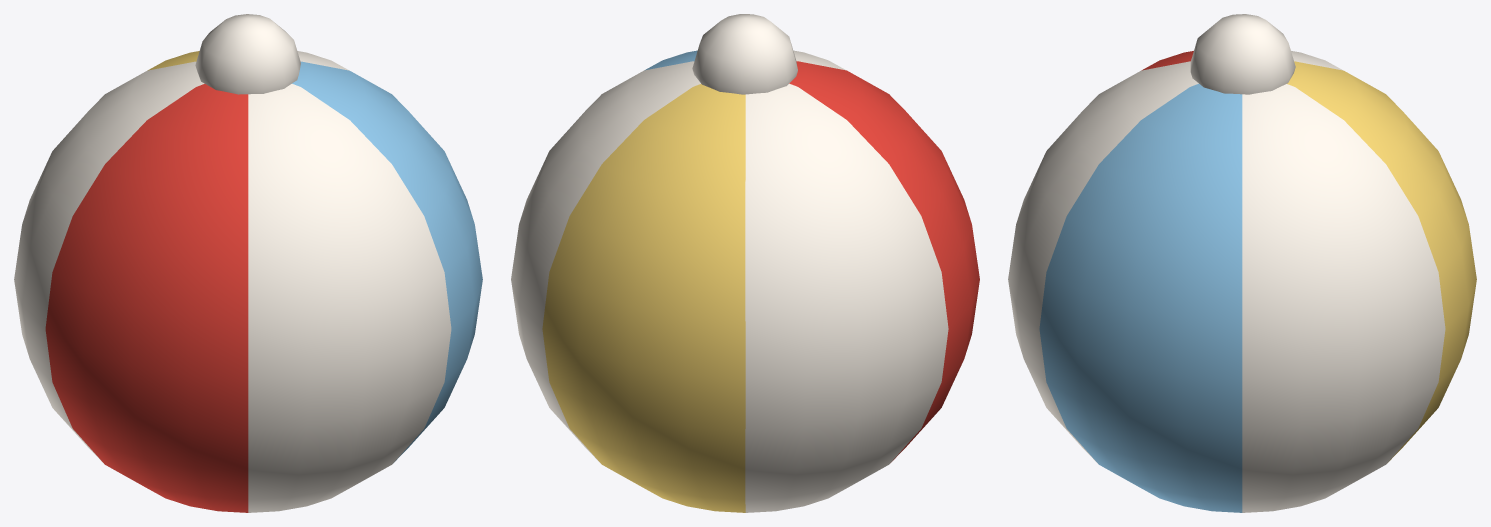
The model's file is beach_ball.glb.
3 renders of one model, left to right at view 1: azimuth 30°, elevation 25°; view 2: azimuth 150°, elevation 25°; view 3: azimuth 270°, elevation 25°, orthographic.
Parts seen in each view (by area): view 1: beach_ball; view 2: beach_ball; view 3: beach_ball.
Boxes of the visible parts, x1,y1,x2,y2 form: beach_ball: (14,14,482,512); beach_ball: (511,14,979,512); beach_ball: (1008,14,1476,512).
Bounding box in the file's own units: 0.44 × 0.49 × 0.44.
Materials: 1 (1 with a texture image).
